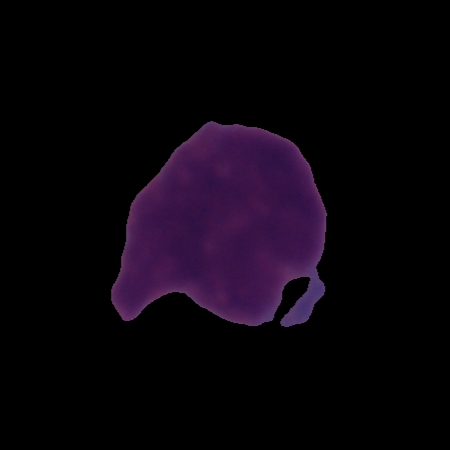ALL: (105, 116, 332, 330)
